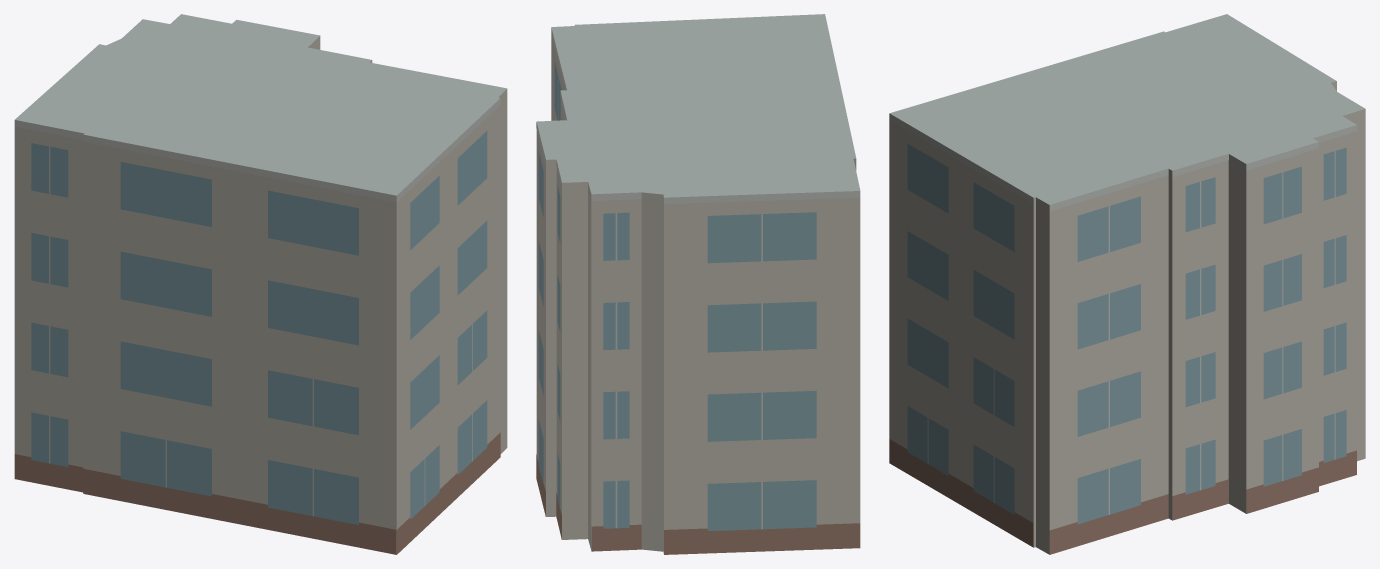
Rendered from survey-upis-32928357.glb.
3 renders of one model, left to right at view 1: azimuth 30°, elevation 25°; view 2: azimuth 150°, elevation 25°; view 3: azimuth 270°, elevation 25°, orthographic. The views are drawn at different scales.
Visible parts, largest first — view 1: survey-upis-32928357.tmp; view 2: survey-upis-32928357.tmp; view 3: survey-upis-32928357.tmp.
Part boxes in pixels (x1,y1,x2,y2): survey-upis-32928357.tmp: (14, 14, 507, 554); survey-upis-32928357.tmp: (536, 14, 860, 554); survey-upis-32928357.tmp: (889, 14, 1365, 554).
Size of the model in its own units: 15.35 by 13.1 by 16.17.
